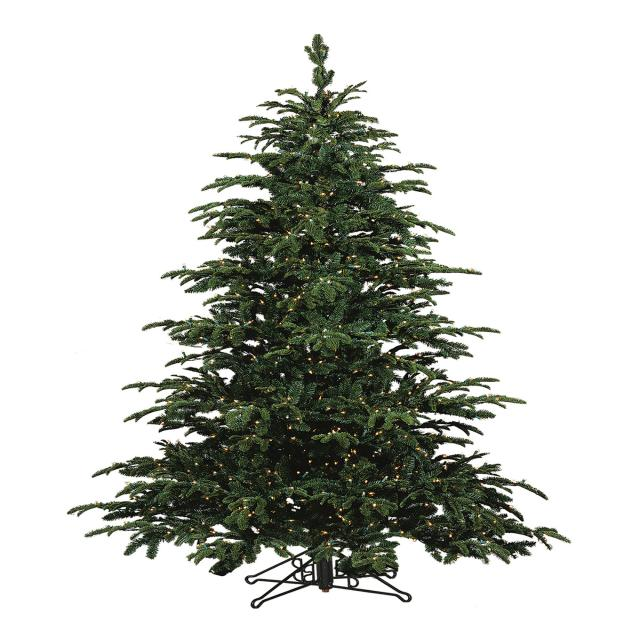Christmas-tree: (99, 11, 585, 598)
